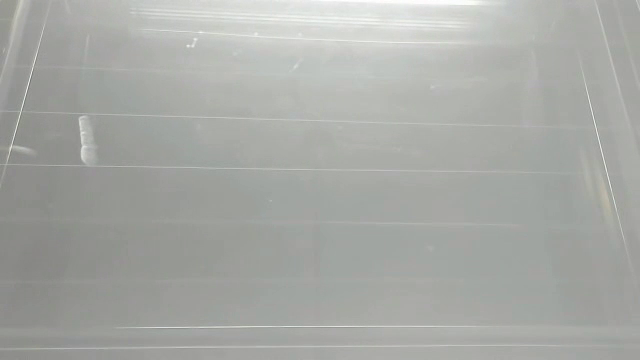alpha: (73, 109, 104, 170)
